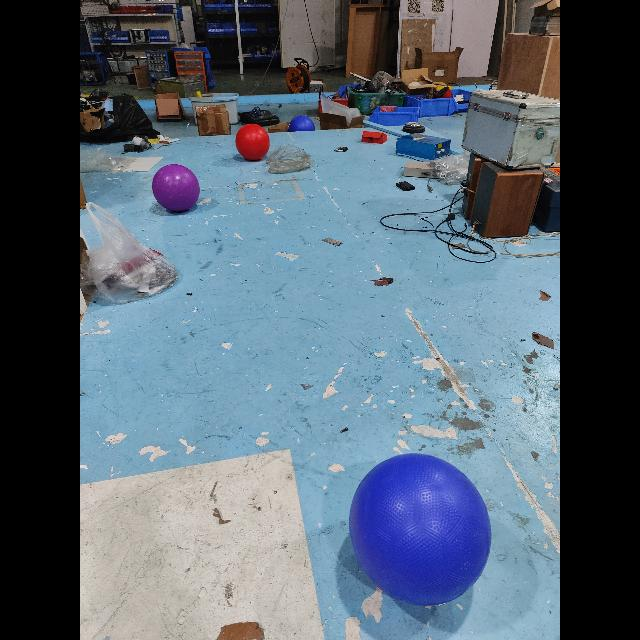B: (348, 452, 494, 604), (290, 113, 314, 141)
P: (152, 163, 202, 213)
R: (234, 122, 272, 162)
